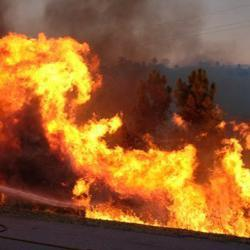fire: (1, 39, 71, 101), (106, 150, 189, 188), (173, 193, 211, 225)
